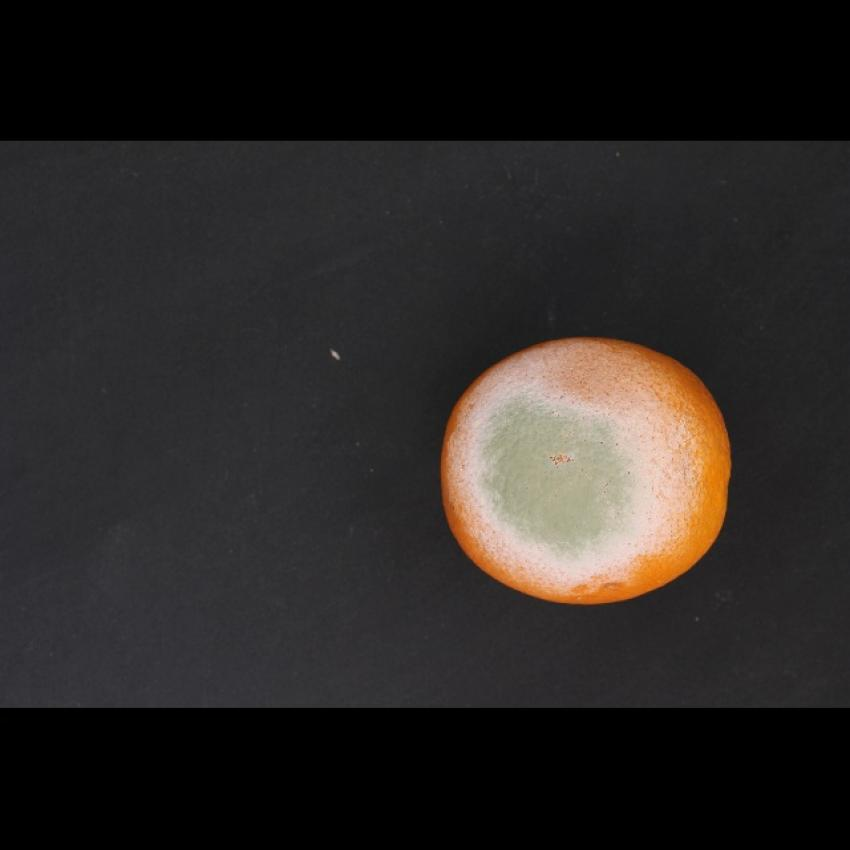Mal estado: (428, 321, 742, 615)
